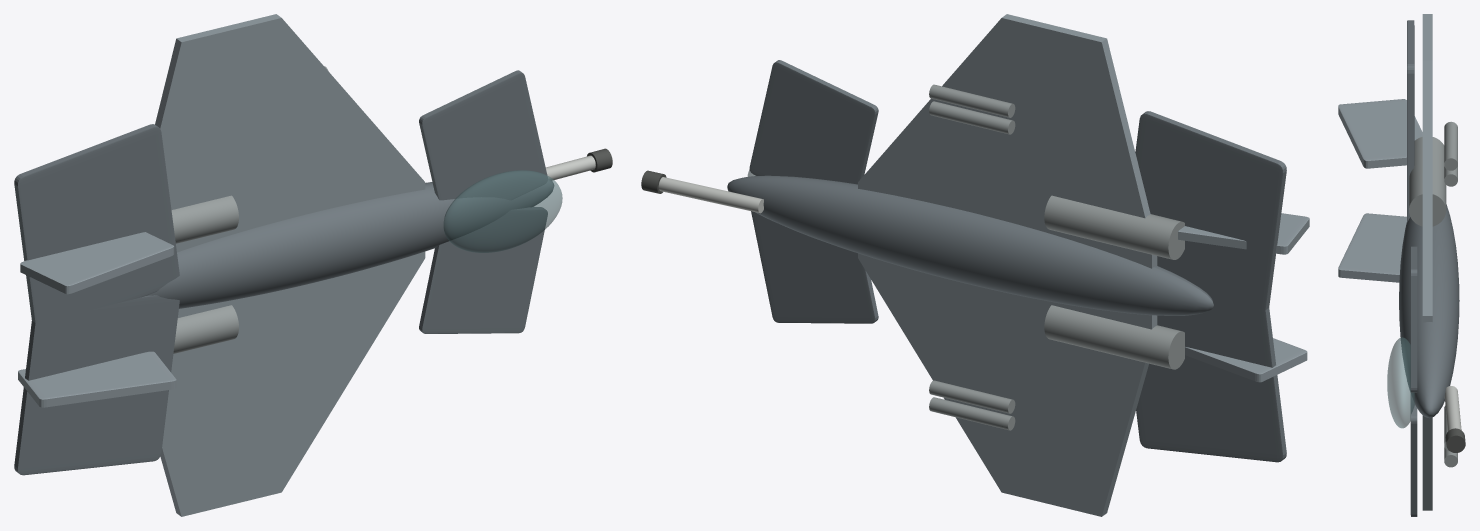
Rendered from s-u25-specter-multirole-aircraft-lod1.glb.
3 renders of one model, left to right at view 1: azimuth 30°, elevation 25°; view 2: azimuth 150°, elevation 25°; view 3: azimuth 270°, elevation 25°, orthographic. The views are drawn at different scales.
Visible parts, largest first — view 1: combat_main_wing, combat_fuselage, combat_tailplane_1, combat_tailplane_-1, canard_1, canard_-1, combat_canopy, combat_fin_-1, combat_fin_1, combat_engine_1, combat_engine_0, combat_gun_barrel_0; view 2: combat_main_wing, combat_fuselage, combat_tailplane_1, combat_tailplane_-1, canard_1, canard_-1, combat_engine_0, combat_engine_1, combat_fin_-1, combat_fin_1, combat_gun_barrel_0, combat_-1_tube_2 (+3 smaller); view 3: combat_fuselage, combat_main_wing, combat_fin_1, combat_fin_-1, combat_engine_1, combat_canopy, combat_tailplane_1, canard_1, canard_-1, combat_1_tube_2, combat_gun_barrel_0, combat_gun_muzzle_0 (+2 smaller).
Boxes of the visible parts, <box> form: combat_main_wing: <box>155,14,425,516</box>; combat_fuselage: <box>146,179,553,308</box>; combat_tailplane_1: <box>14,124,179,327</box>; combat_tailplane_-1: <box>14,295,179,475</box>; canard_1: <box>419,70,547,200</box>; canard_-1: <box>419,207,547,333</box>; combat_canopy: <box>443,170,562,252</box>; combat_fin_-1: <box>18,351,176,407</box>; combat_fin_1: <box>20,232,174,294</box>; combat_engine_1: <box>171,195,238,243</box>; combat_engine_0: <box>173,305,238,353</box>; combat_gun_barrel_0: <box>545,155,595,180</box>; combat_main_wing: <box>858,14,1157,516</box>; combat_fuselage: <box>727,175,1213,315</box>; combat_tailplane_1: <box>1135,111,1286,313</box>; combat_tailplane_-1: <box>1136,297,1286,462</box>; canard_1: <box>749,60,878,184</box>; canard_-1: <box>751,211,878,323</box>; combat_engine_0: <box>1044,305,1184,369</box>; combat_engine_1: <box>1044,195,1184,259</box>; combat_fin_-1: <box>1185,338,1307,382</box>; combat_fin_1: <box>1178,213,1309,254</box>; combat_gun_barrel_0: <box>658,177,763,213</box>; combat_-1_tube_2: <box>929,380,1015,413</box>; combat_fuselage: <box>1399,204,1459,418</box>; combat_main_wing: <box>1422,14,1432,510</box>; combat_fin_1: <box>1338,99,1422,168</box>; combat_fin_-1: <box>1338,213,1406,282</box>; combat_engine_1: <box>1409,137,1446,226</box>; combat_canopy: <box>1387,337,1414,428</box>; combat_tailplane_1: <box>1407,20,1414,222</box>; canard_1: <box>1410,246,1417,392</box>; canard_-1: <box>1410,395,1417,516</box>; combat_1_tube_2: <box>1444,121,1457,170</box>; combat_gun_barrel_0: <box>1444,386,1461,431</box>; combat_gun_muzzle_0: <box>1445,428,1465,452</box>.
Size of what is drawn, in the model's own units: 13.94 by 10.27 by 2.63.
